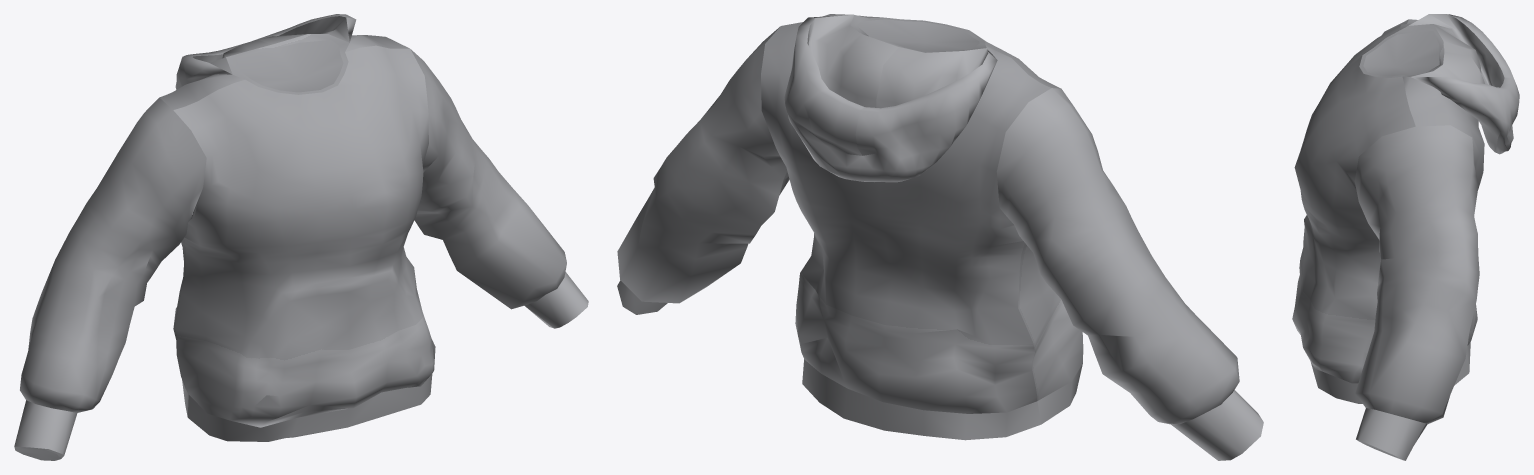
The model's file is cloth01.glb.
3 views of the same model, side by side, from view 1: azimuth 30°, elevation 25°; view 2: azimuth 150°, elevation 25°; view 3: azimuth 270°, elevation 25° (orthographic). The views are drawn at different scales.
Parts seen in each view (by area): view 1: Top; view 2: Top; view 3: Top.
Part boxes in pixels (x1=…): Top: x1=14, y1=14, x2=588, y2=460; Top: x1=617, y1=14, x2=1263, y2=460; Top: x1=1292, y1=14, x2=1519, y2=460.
Bounding box in the file's own units: 1.86 × 1.08 × 0.7.
Materials: 1 (1 with a texture image).
